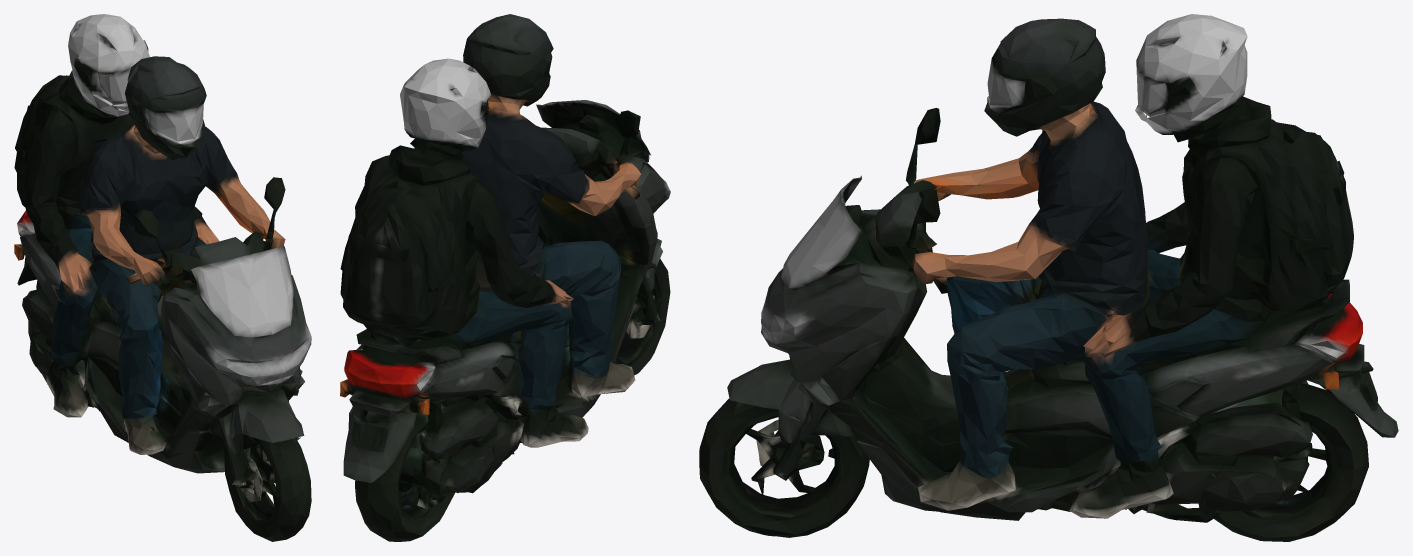
Rendered from nmax.glb.
The picture shows the model from 3 angles, left to right: view 1: azimuth 30°, elevation 25°; view 2: azimuth 150°, elevation 25°; view 3: azimuth 270°, elevation 25°; orthographic projection. The views are drawn at different scales.
Visible parts, largest first — view 1: tripo_node_f61885a6; view 2: tripo_node_f61885a6; view 3: tripo_node_f61885a6.
Boxes of the visible parts, x1,y1,x2,y2 form: tripo_node_f61885a6: (14,14,311,541); tripo_node_f61885a6: (340,14,670,541); tripo_node_f61885a6: (699,14,1398,541).
Size of the model in its own units: 37.57 by 81.88 by 99.99.
1 material, 1 textured.
